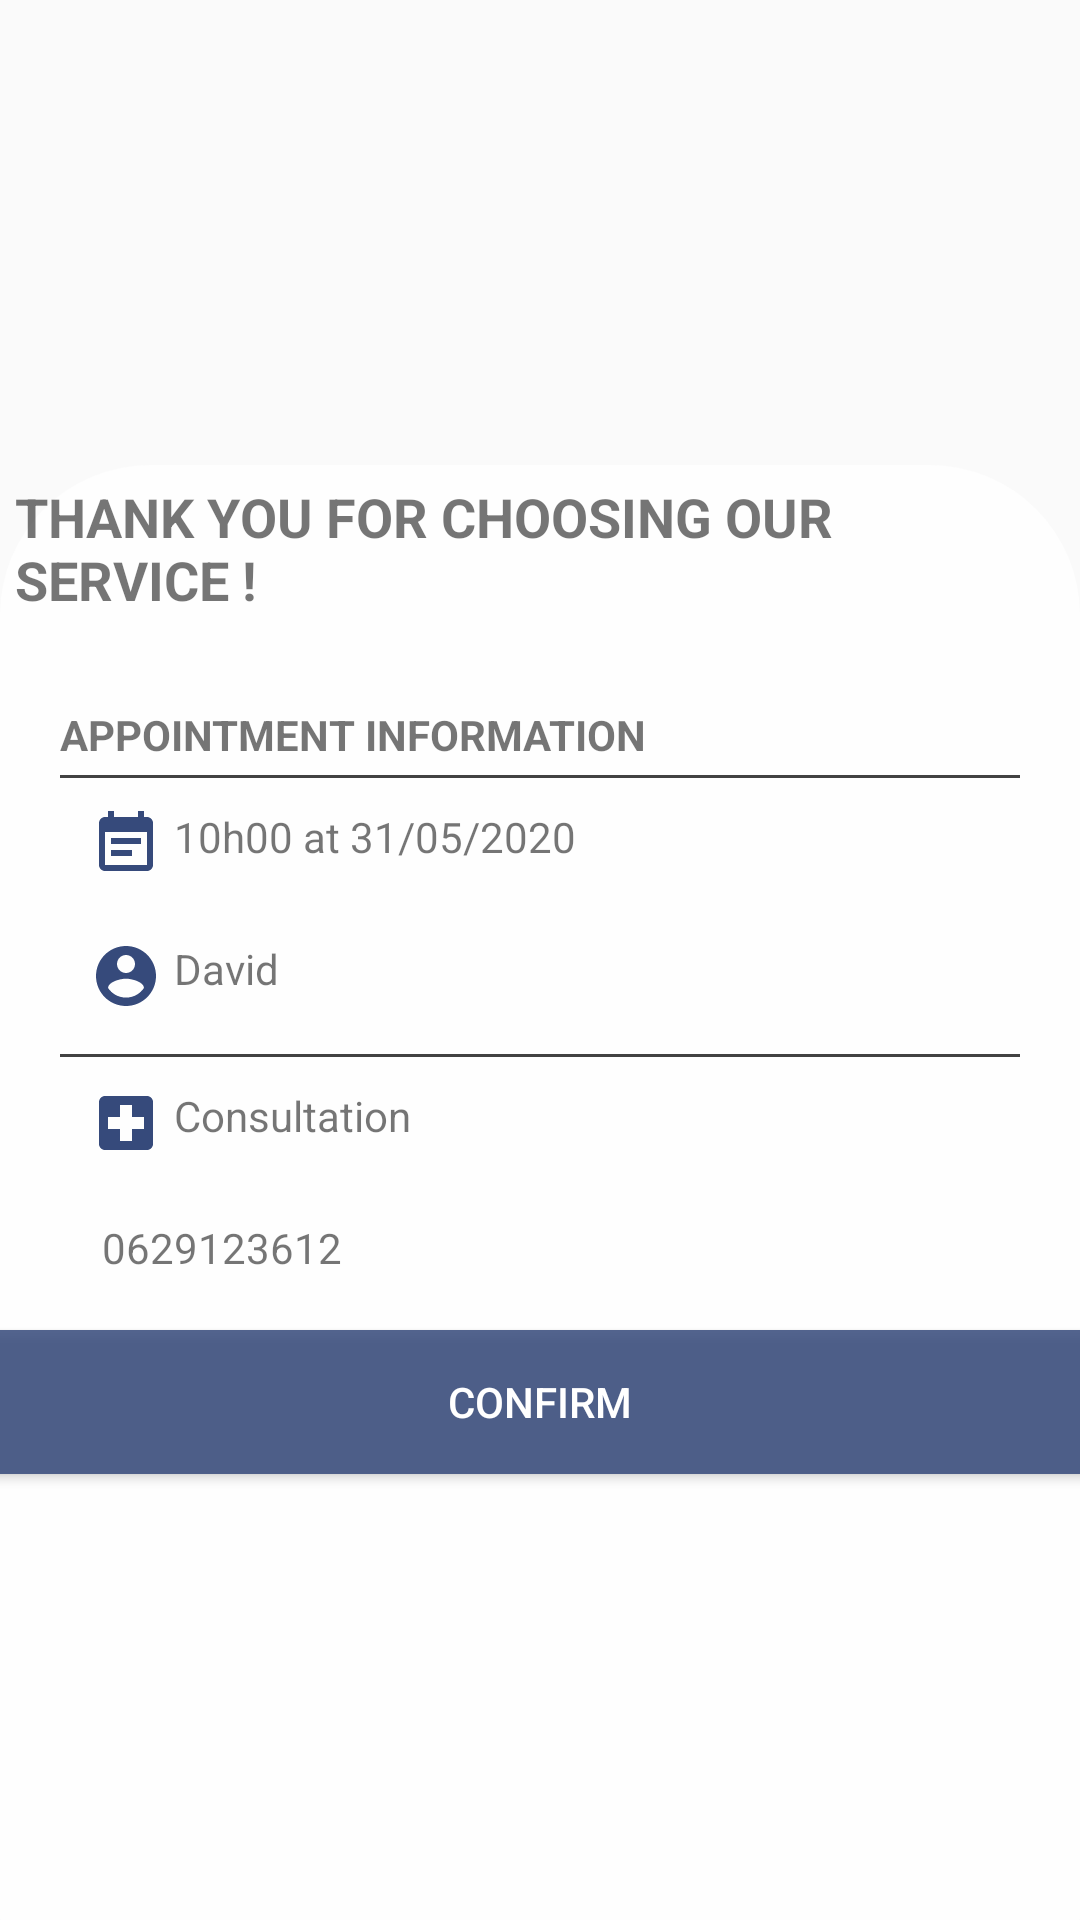

Screen size 1080×1920. Icon name, then its center in pixels as (x=x, y=y):
account: (x=126, y=976)
date: (x=126, y=841)
local hospital: (x=126, y=1123)
